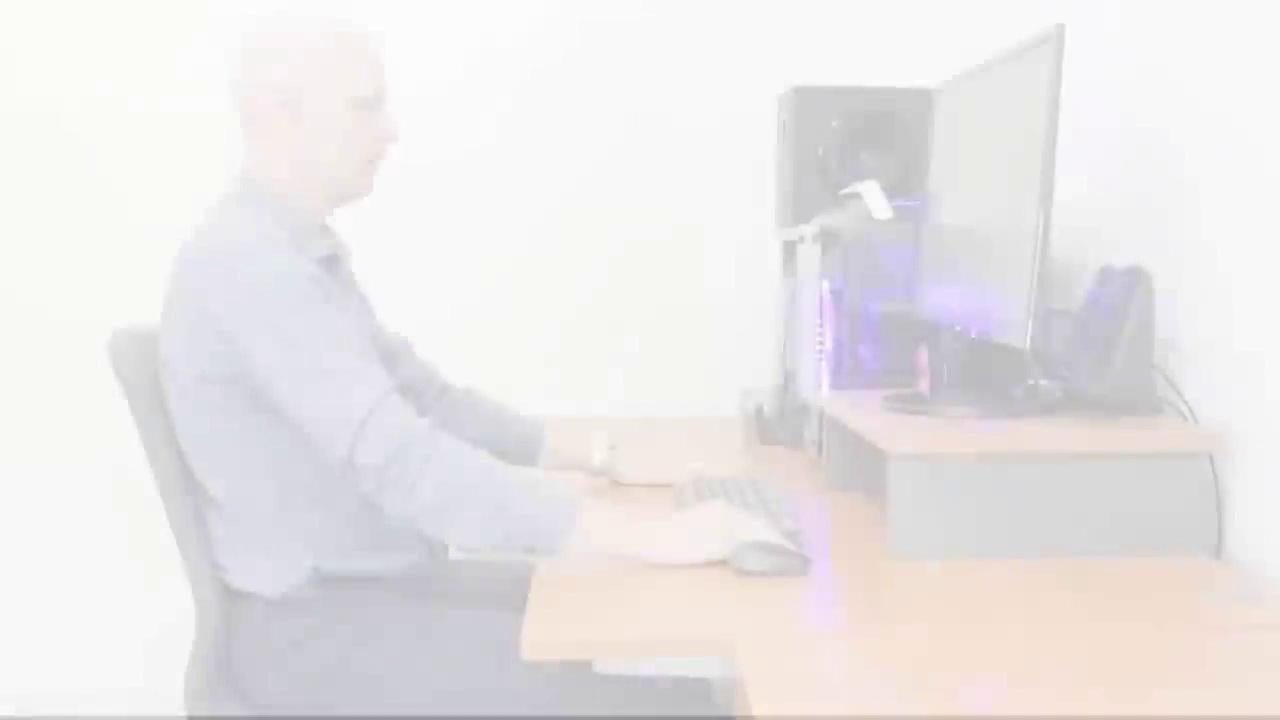GoodPosture: (139, 13, 793, 719)
